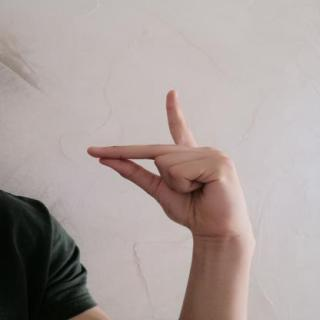TAA: (80, 84, 256, 240)
